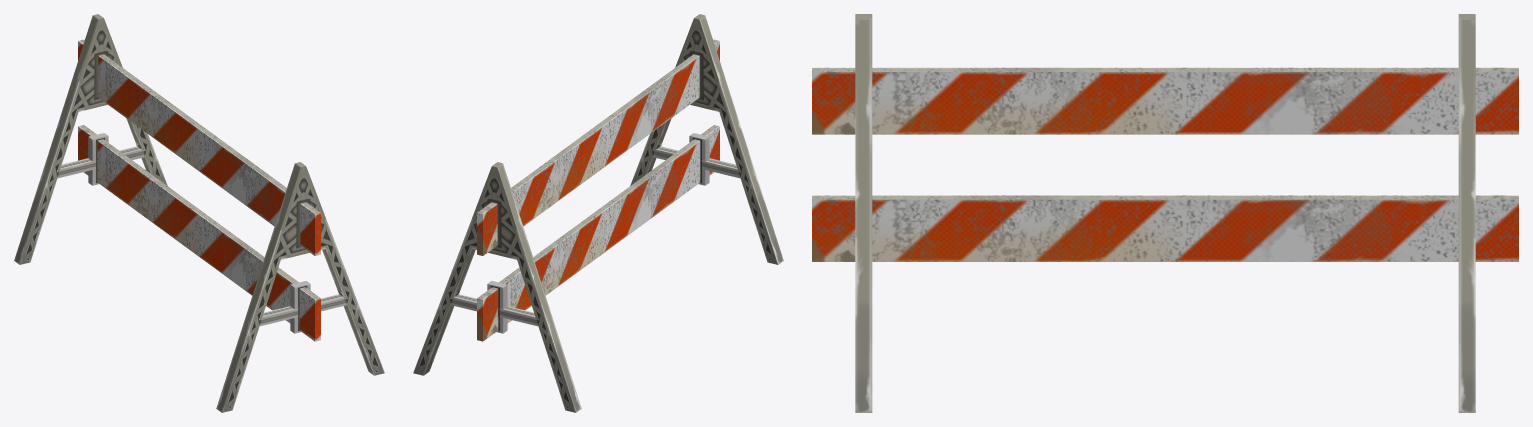
Rendered from trafficBarricade03.fbx.
The picture shows the model from 3 angles, left to right: view 1: azimuth 30°, elevation 25°; view 2: azimuth 150°, elevation 25°; view 3: azimuth 270°, elevation 25°; orthographic projection. The views are drawn at different scales.
Visible parts, largest first — view 1: trafficBarricade03; view 2: trafficBarricade03; view 3: trafficBarricade03.
Part boxes in pixels (x1=…): trafficBarricade03: x1=14, y1=14, x2=384, y2=412; trafficBarricade03: x1=413, y1=14, x2=783, y2=412; trafficBarricade03: x1=812, y1=14, x2=1518, y2=412.
Bounding box in the file's own units: 81.41 × 108 × 205.
